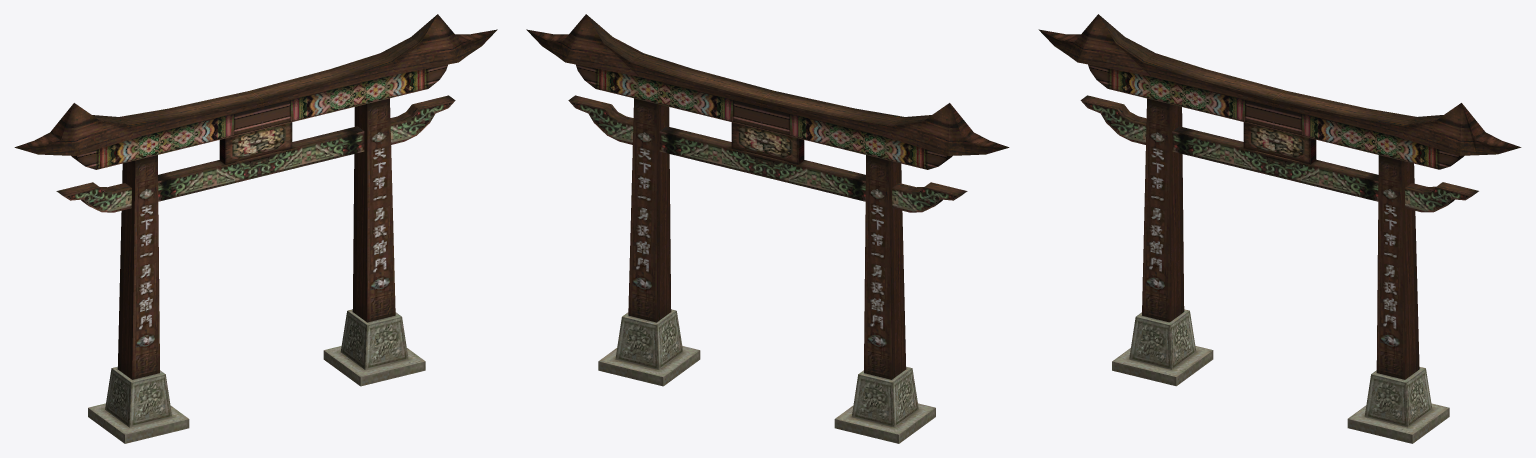
Rendered from b1-035-woodgate.fbx.
3 views of the same model, side by side, from view 1: azimuth 30°, elevation 25°; view 2: azimuth 150°, elevation 25°; view 3: azimuth 330°, elevation 25° (orthographic).
Parts seen in each view (by area): view 1: b1-035-wooddoor; view 2: b1-035-wooddoor; view 3: b1-035-wooddoor.
Part boxes in pixels (x1,y1,x2,y2): b1-035-wooddoor: (14,14,497,443); b1-035-wooddoor: (526,14,1009,443); b1-035-wooddoor: (1038,14,1521,443).
Size of the model in its own units: 20.57 by 13.63 by 2.72.
